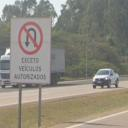NoVirarU: (17, 21, 44, 56)
